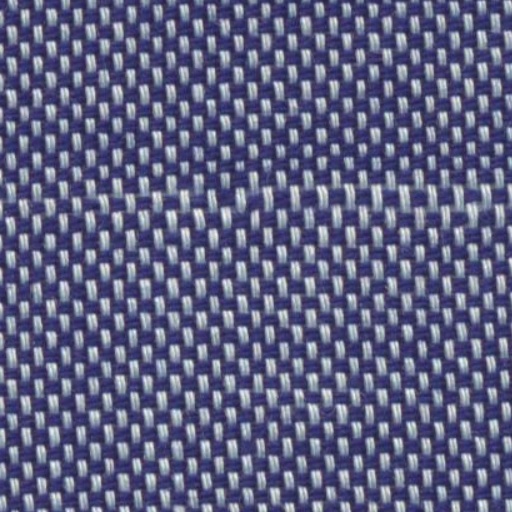TuoSha: (22, 164, 488, 254)
